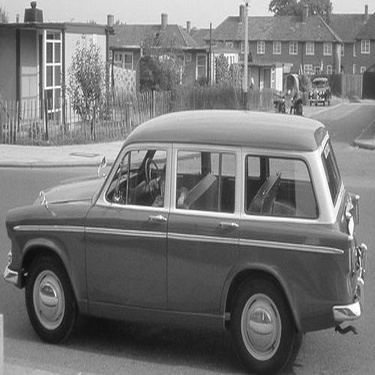car: (6, 98, 371, 369), (307, 75, 335, 109)
